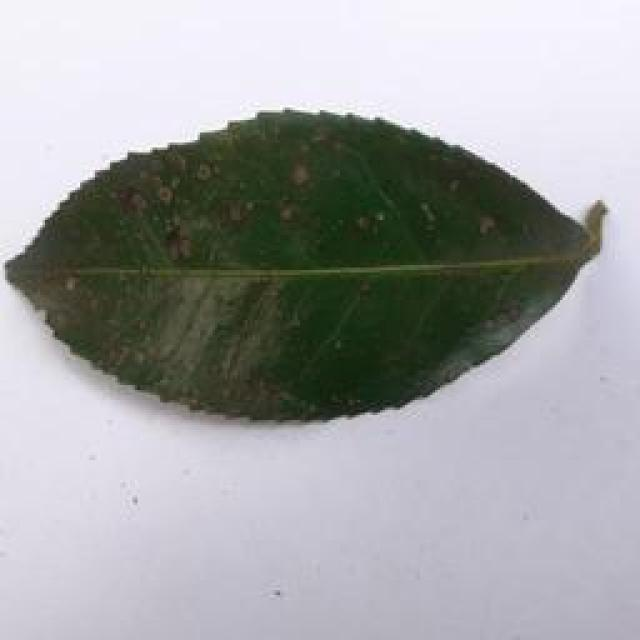Algal Leaf Spot: (4, 101, 615, 433)
